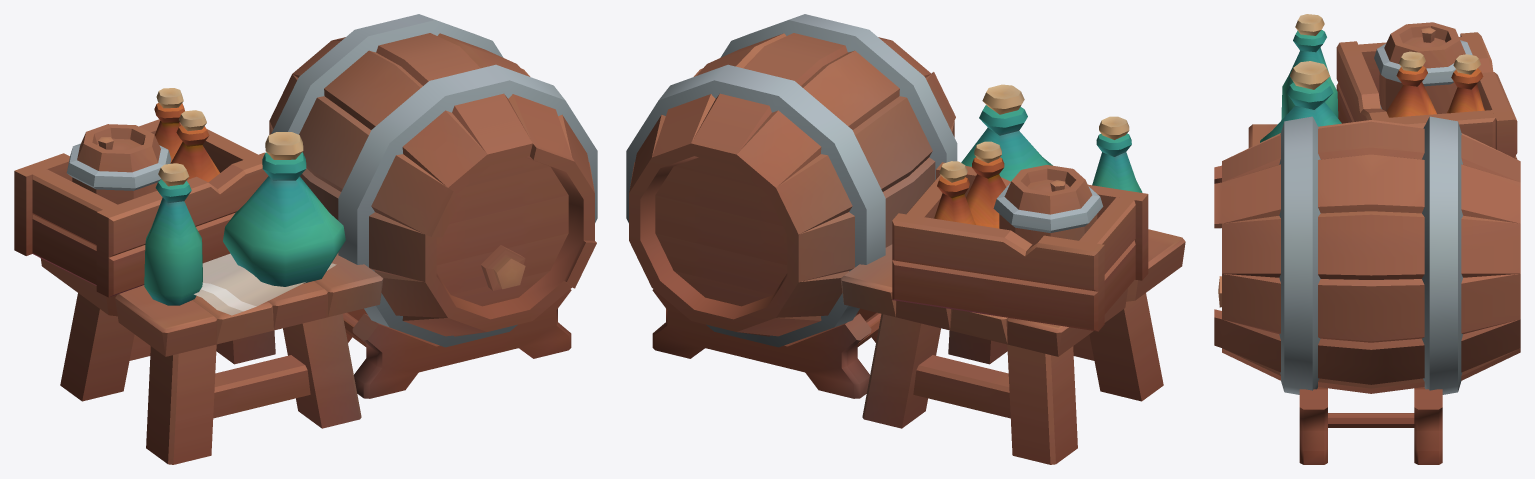
Rendered from kay-barril-chope.gltf.
The picture shows the model from 3 angles, left to right: view 1: azimuth 30°, elevation 25°; view 2: azimuth 150°, elevation 25°; view 3: azimuth 270°, elevation 25°; orthographic projection. The views are drawn at different scales.
Visible parts, largest first — view 1: keg_decorated; view 2: keg_decorated; view 3: keg_decorated.
Part boxes in pixels (x1=…): keg_decorated: x1=14, y1=14, x2=597, y2=464; keg_decorated: x1=626, y1=14, x2=1185, y2=464; keg_decorated: x1=1214, y1=14, x2=1520, y2=464.
Bounding box in the file's own units: 2.29 × 1.33 × 1.3.
1 material, 1 textured.
